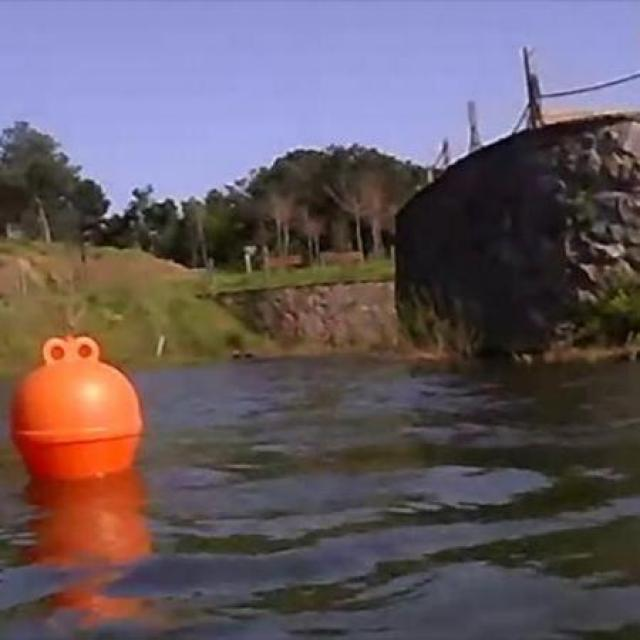buoy: (10, 332, 142, 482)
